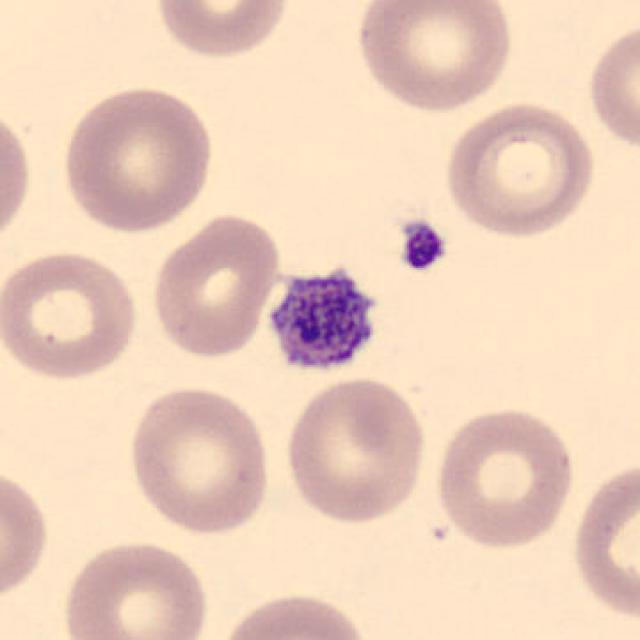Platelets: (261, 257, 384, 379), (394, 217, 450, 275)
RBC: (57, 80, 219, 234), (122, 381, 276, 538), (279, 372, 430, 527), (439, 97, 601, 240), (430, 400, 580, 552), (148, 210, 284, 361), (0, 243, 144, 384), (350, 0, 518, 115), (57, 534, 213, 640), (567, 453, 640, 626), (150, 0, 294, 62), (213, 587, 375, 640), (0, 462, 53, 610), (583, 16, 638, 157), (0, 99, 36, 259)
